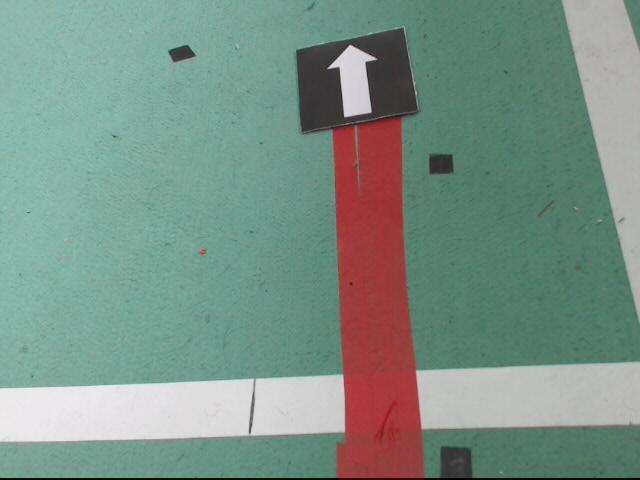straight: (299, 26, 422, 133)
